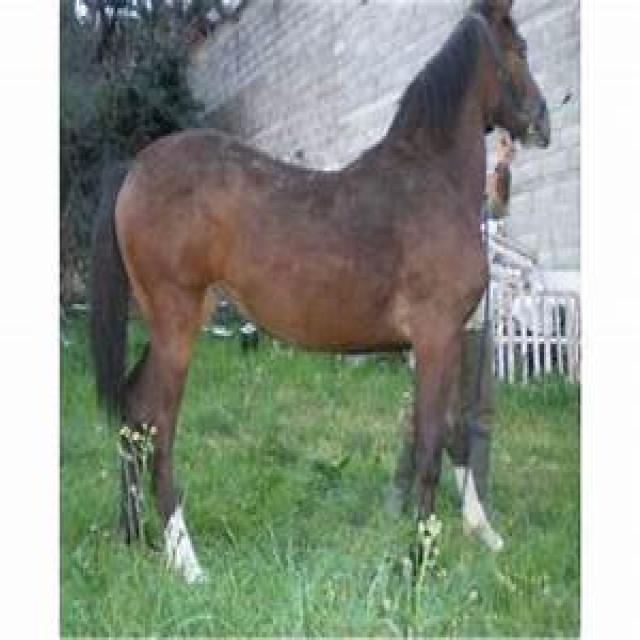horse: (94, 0, 553, 584)
